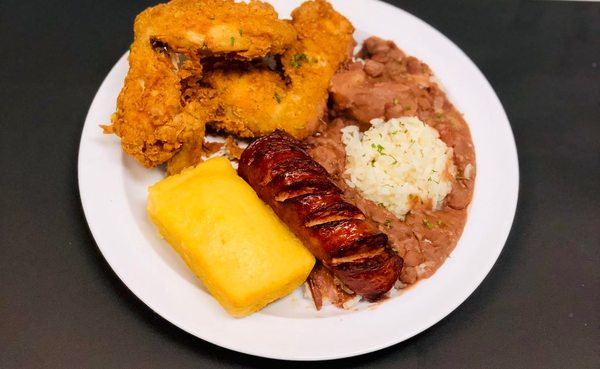curry: (12, 0, 595, 369)
